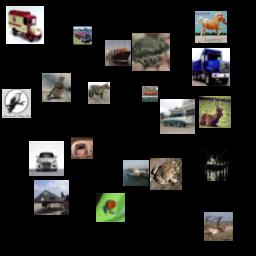airplane: (34, 180, 69, 215)
automobile: (29, 141, 64, 176), (160, 99, 195, 134), (73, 26, 92, 45), (142, 86, 158, 102)
bird: (42, 73, 71, 102), (2, 89, 31, 118)
deer: (199, 96, 231, 128), (204, 212, 233, 241)
dog: (71, 137, 93, 159)
frog: (132, 33, 170, 71), (150, 158, 182, 190), (96, 193, 125, 222)
ship: (199, 149, 231, 181), (123, 160, 149, 186), (105, 40, 131, 66)
truck: (6, 6, 44, 44), (192, 48, 230, 86)
